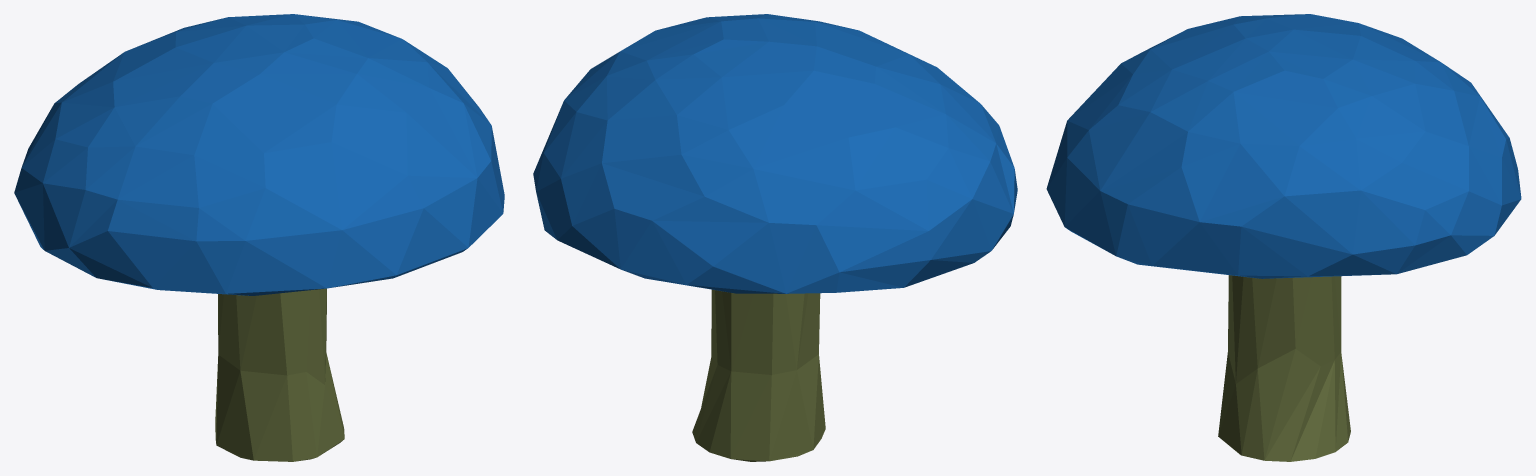
Rendered from SM_Decor_Mushroom1.FBX.
3 views of the same model, side by side, from view 1: azimuth 30°, elevation 25°; view 2: azimuth 150°, elevation 25°; view 3: azimuth 270°, elevation 25° (orthographic).
Visible parts, largest first — view 1: Mushroom_3; view 2: Mushroom_3; view 3: Mushroom_3.
Part boxes in pixels (x1,y1,x2,y2): Mushroom_3: (14,14,504,461); Mushroom_3: (533,14,1017,461); Mushroom_3: (1046,14,1521,461).
Size of the model in its own units: 44.01 by 39.64 by 44.45.
